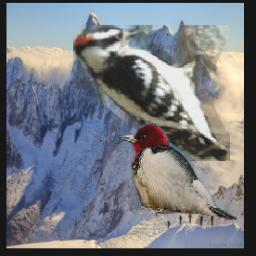Woodpecker: (74, 25, 231, 161), (117, 124, 238, 221)
